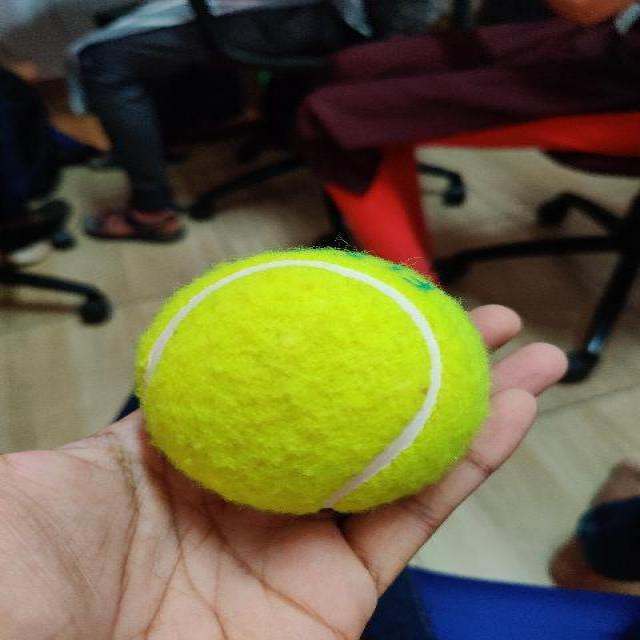tennis-ball: (135, 250, 489, 512)
